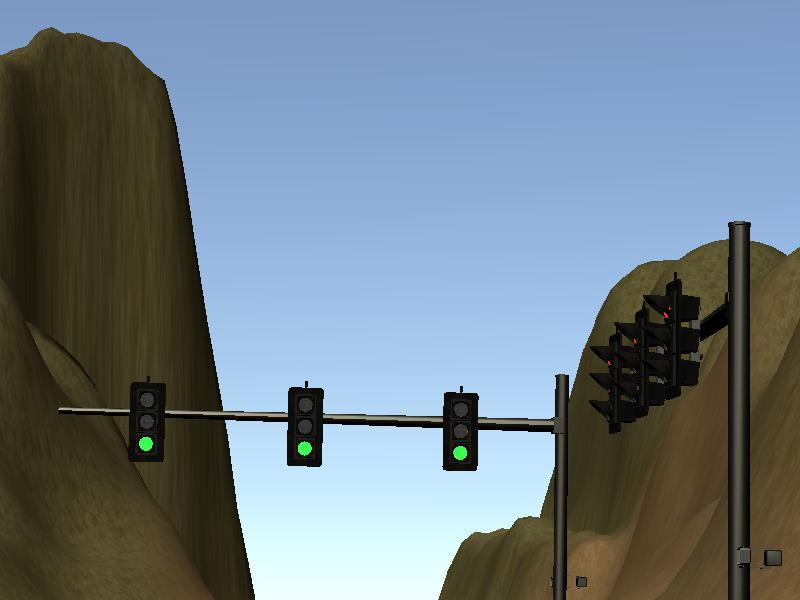Green: (132, 383, 163, 463), (444, 394, 477, 469), (290, 387, 320, 465)
